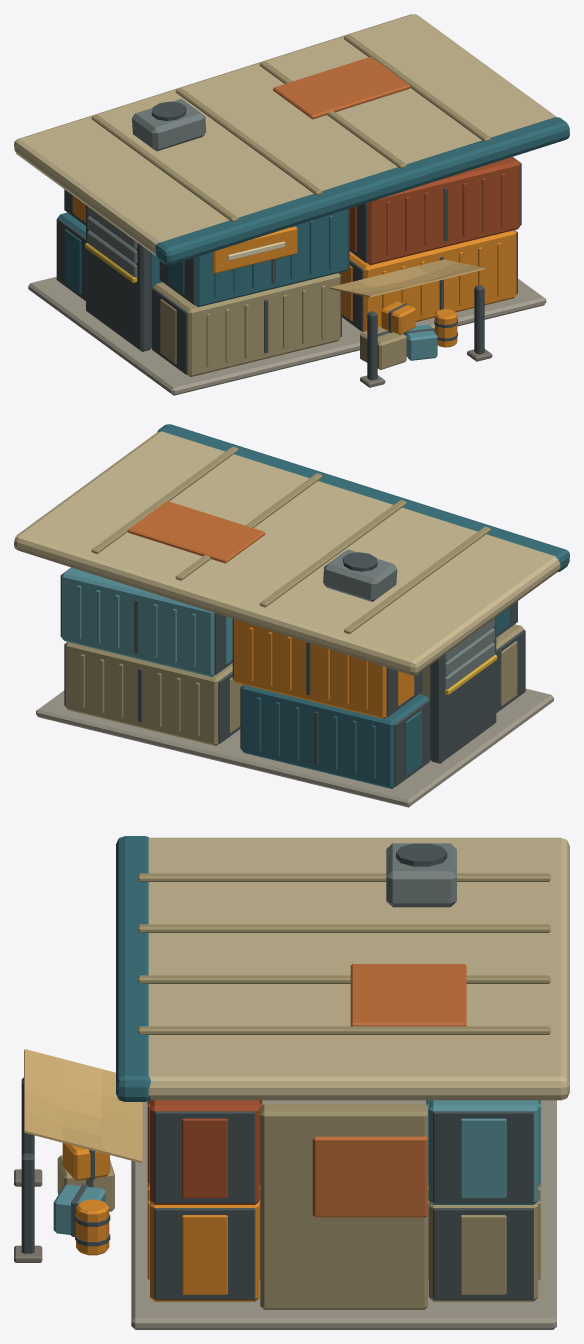
Rendered from wb_container_hall.glb.
The picture shows the model from 3 angles, top to bottom: view 1: azimuth 30°, elevation 25°; view 2: azimuth 150°, elevation 25°; view 3: azimuth 270°, elevation 25°; orthographic projection. The views are drawn at different scales.
Parts seen in each view (by area): view 1: wb_container_hall; view 2: wb_container_hall; view 3: wb_container_hall.
Part boxes in pixels (bbox=[...]): wb_container_hall: bbox=[14, 14, 569, 395]; wb_container_hall: bbox=[14, 424, 569, 807]; wb_container_hall: bbox=[14, 836, 569, 1329].
Size of the model in its own units: 5.31 by 2.41 by 4.31.
